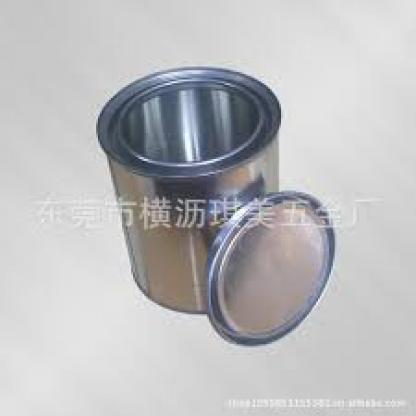METAL: (95, 64, 278, 312), (203, 189, 333, 346)
